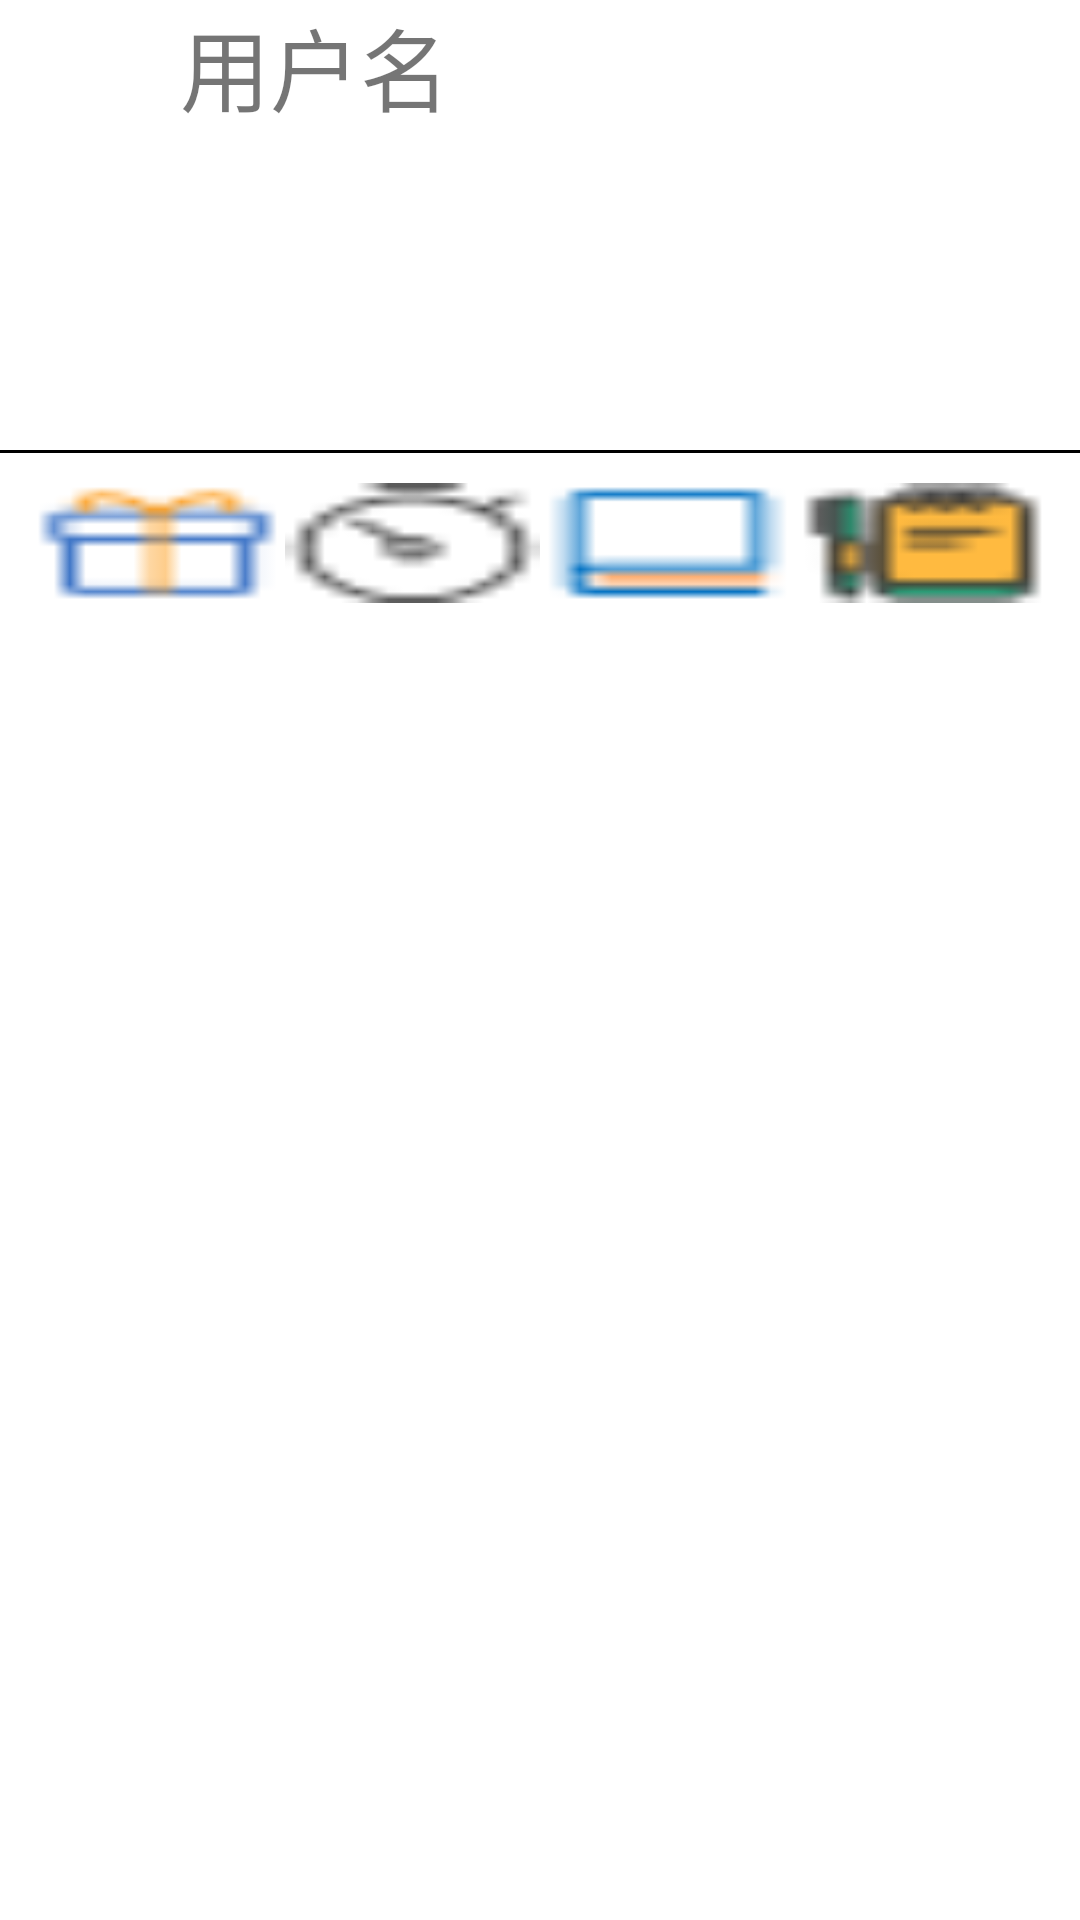

Icon bounding boxes for this 1080 × 1920 phone screenshot, format (x1, y1, x2, y2):
huodong: (40, 488, 275, 598)
jilu: (805, 483, 1040, 603)
shichang: (285, 483, 540, 603)
